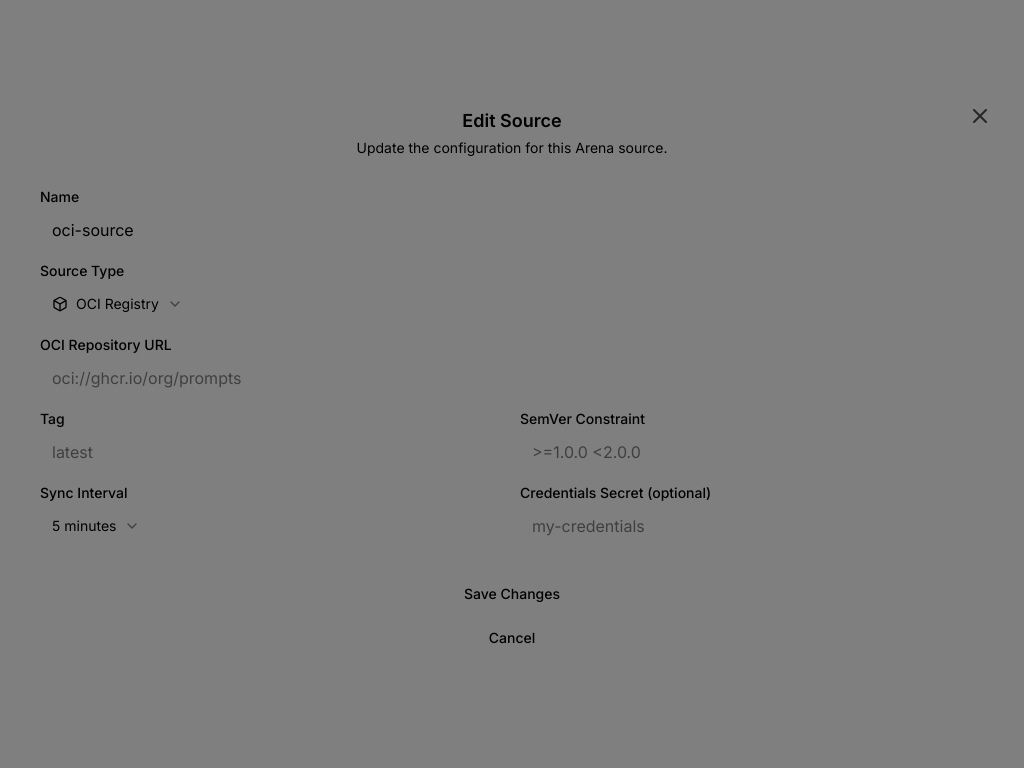
it: SourceDialog - Validation Errors › shows validation error when OCI URL is empty
Click the button "Save Changes". click: point(512, 594)
box: x1=40 y1=576 x2=984 y2=612
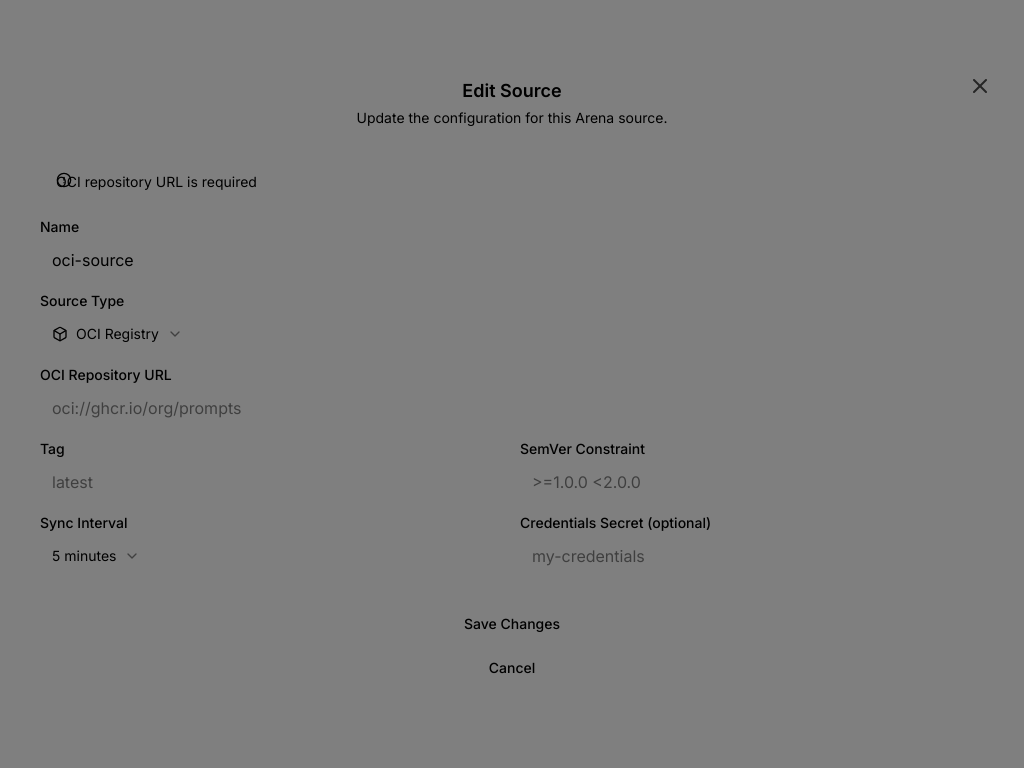
Check: the text "OCI repository URL is required" is shown, box x1=56 y1=173 x2=257 y2=190
